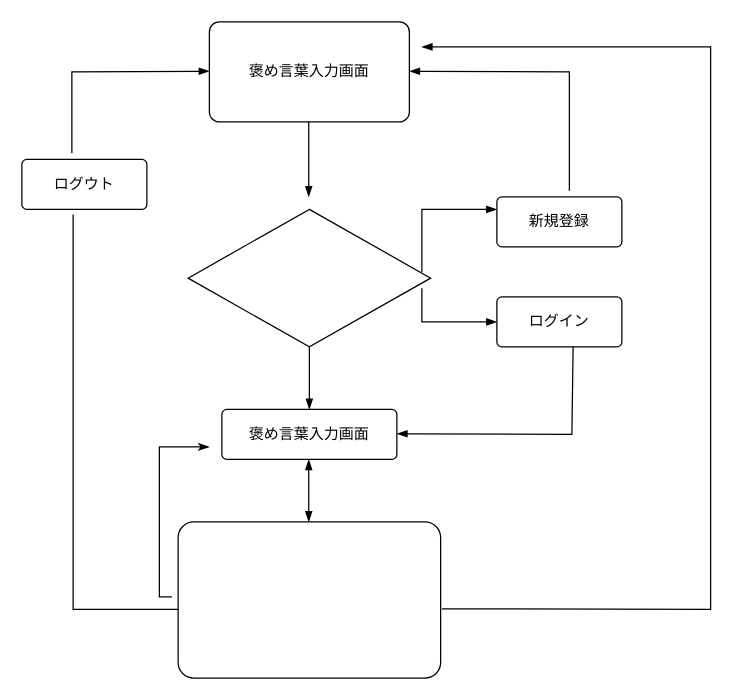
Some shapes in this 743 by 700 pixel diagram are drawn without their labels. Here are the shapes that lost their labels. From the top down, the centre of each, then its label:
At [309,277]: "褒め言葉出力画面".
At [309,599]: "ユーザーカレンダー表示画面".
